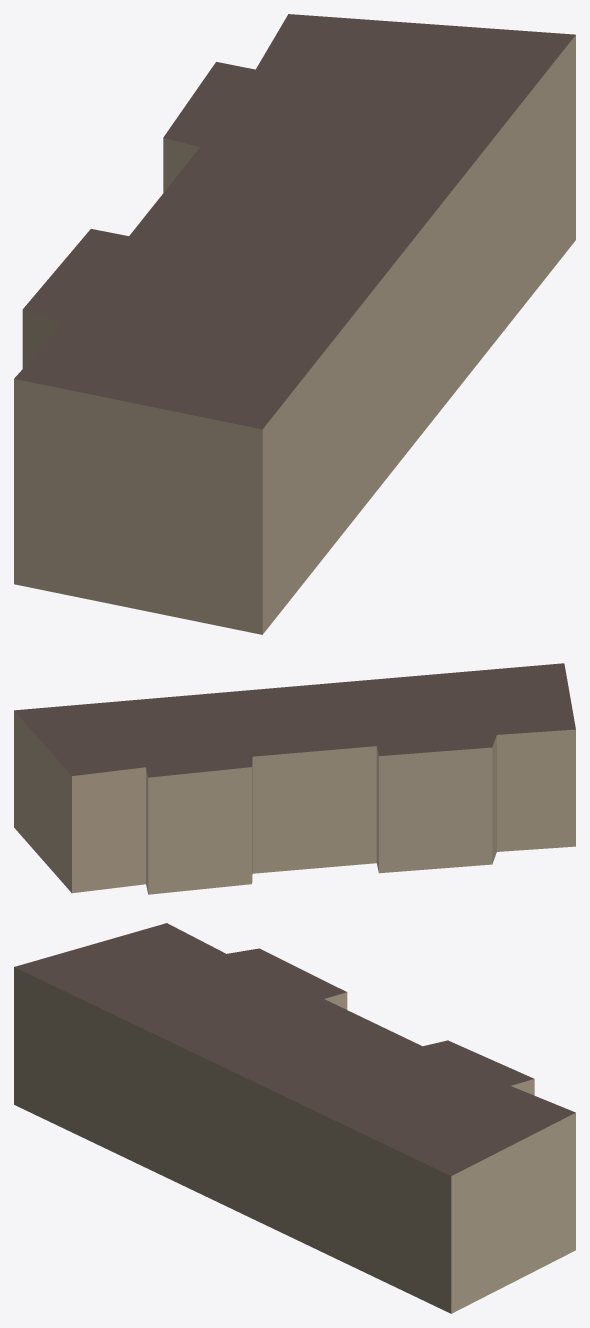
3 views of the same model, one above another, from view 1: azimuth 30°, elevation 25°; view 2: azimuth 150°, elevation 25°; view 3: azimuth 270°, elevation 25° (orthographic). The views are drawn at different scales.
Visible parts, largest first — view 1: HP-w1515076946; view 2: HP-w1515076946; view 3: HP-w1515076946.
Part boxes in pixels (bbox=[...]): HP-w1515076946: bbox=[14, 14, 575, 634]; HP-w1515076946: bbox=[14, 663, 575, 894]; HP-w1515076946: bbox=[14, 923, 575, 1313].
Size of the model in its own units: 35.48 by 9 by 33.28.
